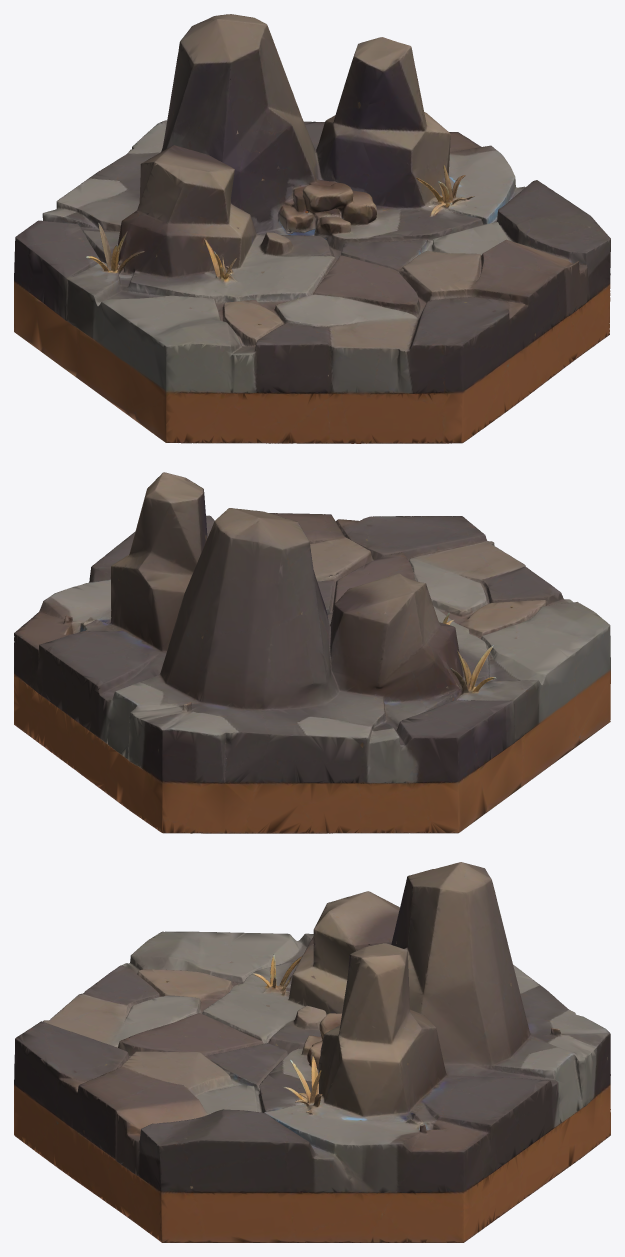
File: rocktile_lv2.glb
3 views of the same model, one above another, from view 1: azimuth 30°, elevation 25°; view 2: azimuth 150°, elevation 25°; view 3: azimuth 270°, elevation 25° (orthographic).
Size of the model in its own units: 1.64 by 0.9239 by 1.9.
1 material, 1 textured.
